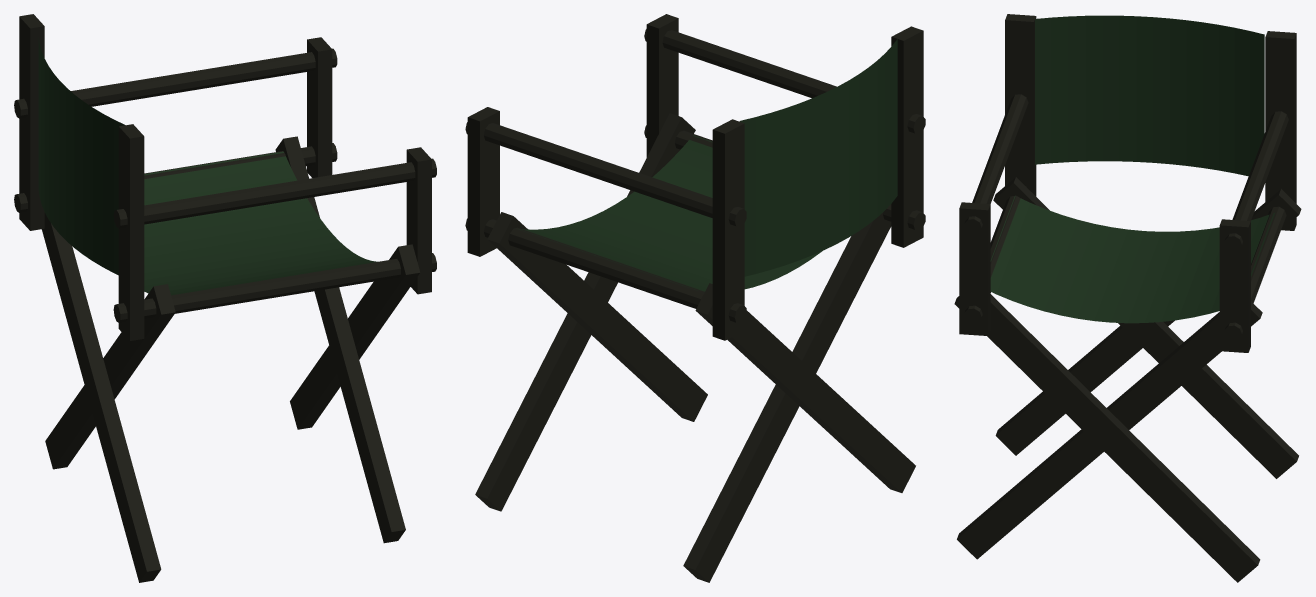
The model's file is Folding_chair_khaki_90.glb.
3 views of the same model, side by side, from view 1: azimuth 30°, elevation 25°; view 2: azimuth 150°, elevation 25°; view 3: azimuth 270°, elevation 25° (orthographic). The views are drawn at different scales.
Visible parts, largest first — view 1: Node-Mesh, Node-Mesh_1; view 2: Node-Mesh, Node-Mesh_1; view 3: Node-Mesh, Node-Mesh_1.
Boxes of the visible parts, x1,y1,x2,y2 form: Node-Mesh: (14, 14, 436, 582); Node-Mesh_1: (38, 38, 377, 295); Node-Mesh: (465, 14, 925, 582); Node-Mesh_1: (516, 39, 897, 291); Node-Mesh: (954, 14, 1301, 582); Node-Mesh_1: (990, 15, 1274, 323).
Bounding box in the file's own units: 24.74 × 32.41 × 23.75.
